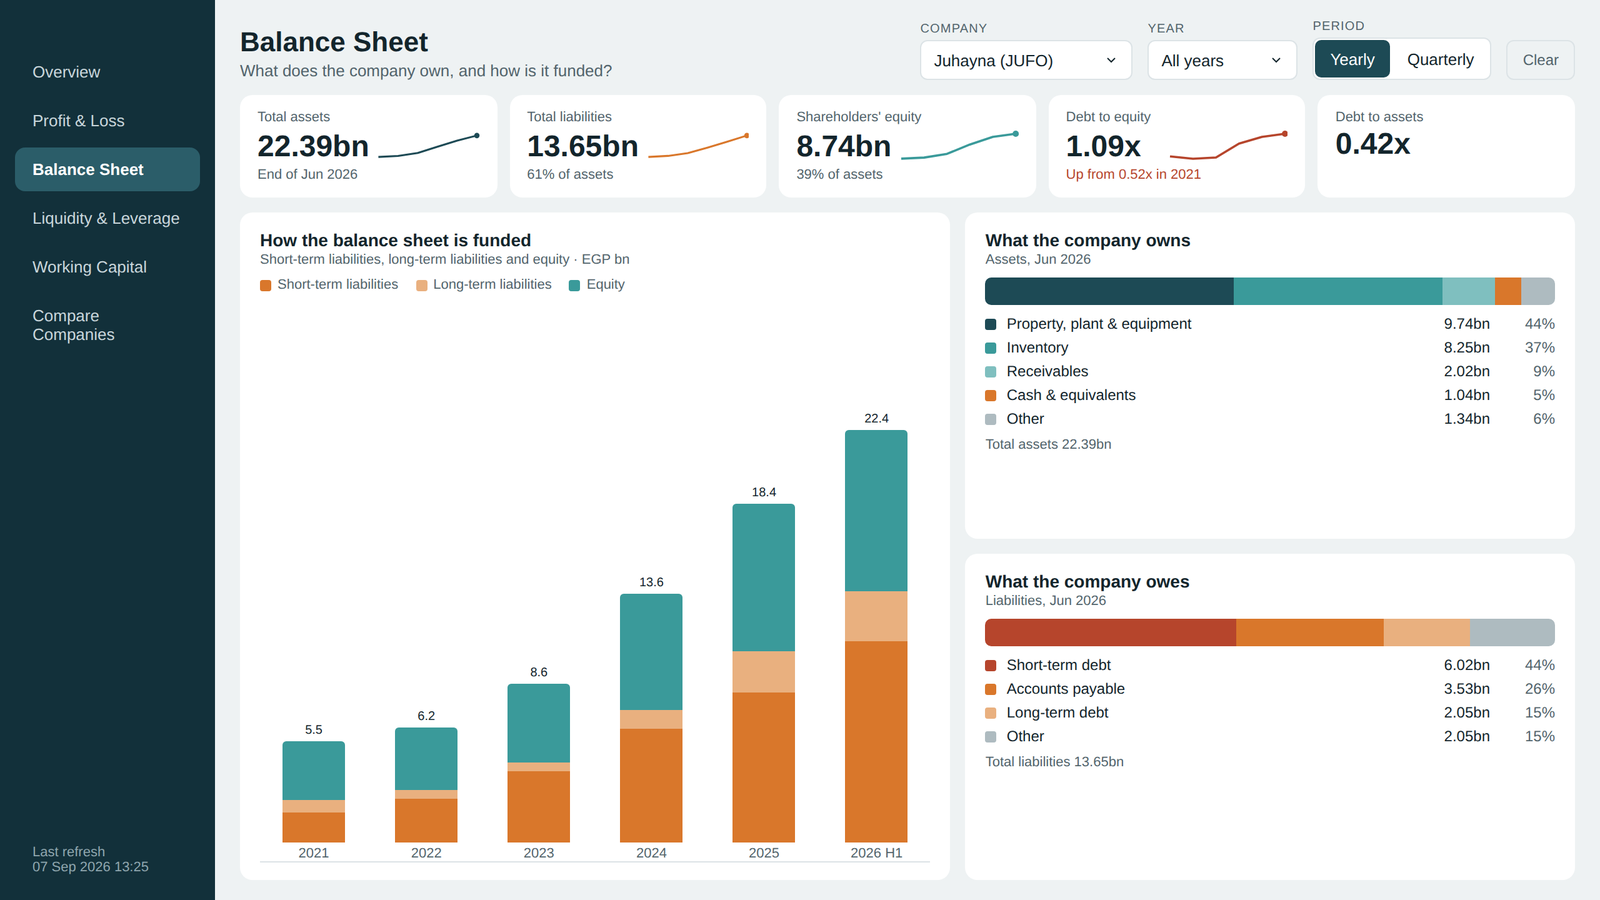

This screenshot's page, from the dashboard's own definition file:
{"tool":"powerbi","page":{"name":"Balance Sheet","canvas":[1280,720],"ordinal":2},"visuals":[{"type":"card","title":"Total assets","fields":{"Values":["Measures List.Total Assets (card)"]},"box":[192,78,206,80],"z":10},{"type":"card","title":"Total liabilities","fields":{"Values":["Measures List.Total Liabilities (card)"]},"box":[408,78,206,80],"z":11},{"type":"card","title":"Shareholders' equity","fields":{"Values":["Measures List.Total Equity (card)"]},"box":[623,78,206,80],"z":12},{"type":"card","title":"Debt to equity","fields":{"Values":["Measures List.Debt to Equity (card)"]},"box":[839,78,206,80],"z":13},{"type":"card","title":"Debt to assets","fields":{"Values":["Measures List.Debt to Assets (card)"]},"box":[1054,78,206,80],"z":14},{"type":"columnChart","title":"How the balance sheet is funded","fields":{"Category":["DimDate.Year"],"Y":["Measures List.Total Current Liabilities (chart)","Measures List.Long-Term Liabilities (chart)","Measures List.Total Equity (chart)"]},"box":[192,170,553,534],"z":20},{"type":"hundredPercentStackedBarChart","title":"What the company owns","fields":{"Y":["Measures List.PP&E (fixed) (chart)","Measures List.Inventory (chart)","Measures List.AR (chart)","Measures List.Cash & Equivalents (chart)","Measures List.Other Assets (chart)"]},"box":[757,170,503,261],"z":21},{"type":"hundredPercentStackedBarChart","title":"What the company owes","fields":{"Y":["Measures List.Short-Term Debt (chart)","Measures List.AP (chart)","Measures List.Long-Term Debt (chart)","Measures List.Other Liabilities (chart)"]},"box":[757,443,503,261],"z":22},{"type":"pageNavigator","box":[12,38,150,270],"z":50},{"type":"card","title":"Last refresh","fields":{"Values":["Max(Last Refreash.Date)"]},"box":[12,656,150,52],"z":51},{"type":"textbox","box":[188,0,540,46],"z":52},{"type":"textbox","box":[188,44,540,30],"z":53},{"type":"slicer","title":"COMPANY","fields":{"Values":["FactFinancials.Company"]},"box":[736,10,170,56],"z":54},{"type":"slicer","title":"YEAR","fields":{"Values":["DimDate.Year"]},"box":[918,10,120,56],"z":55},{"type":"actionButton","box":[1205,34,55,30],"z":56}]}

Visuals, with their boxes on the page's 1280x720 design canvas (x1, y1, x2, y2). These are canvas units, not pixel positions in the 1600x900 screenshot, which may show the page scaled, cropped or inside an application window:
"Total assets" card: left=192, top=78, right=398, bottom=158
"Total liabilities" card: left=408, top=78, right=614, bottom=158
"Shareholders' equity" card: left=623, top=78, right=829, bottom=158
"Debt to equity" card: left=839, top=78, right=1045, bottom=158
"Debt to assets" card: left=1054, top=78, right=1260, bottom=158
"How the balance sheet is funded" columnChart: left=192, top=170, right=745, bottom=704
"What the company owns" hundredPercentStackedBarChart: left=757, top=170, right=1260, bottom=431
"What the company owes" hundredPercentStackedBarChart: left=757, top=443, right=1260, bottom=704
pageNavigator: left=12, top=38, right=162, bottom=308
"Last refresh" card: left=12, top=656, right=162, bottom=708
textbox: left=188, top=0, right=728, bottom=46
textbox: left=188, top=44, right=728, bottom=74
"COMPANY" slicer: left=736, top=10, right=906, bottom=66
"YEAR" slicer: left=918, top=10, right=1038, bottom=66
actionButton: left=1205, top=34, right=1260, bottom=64
